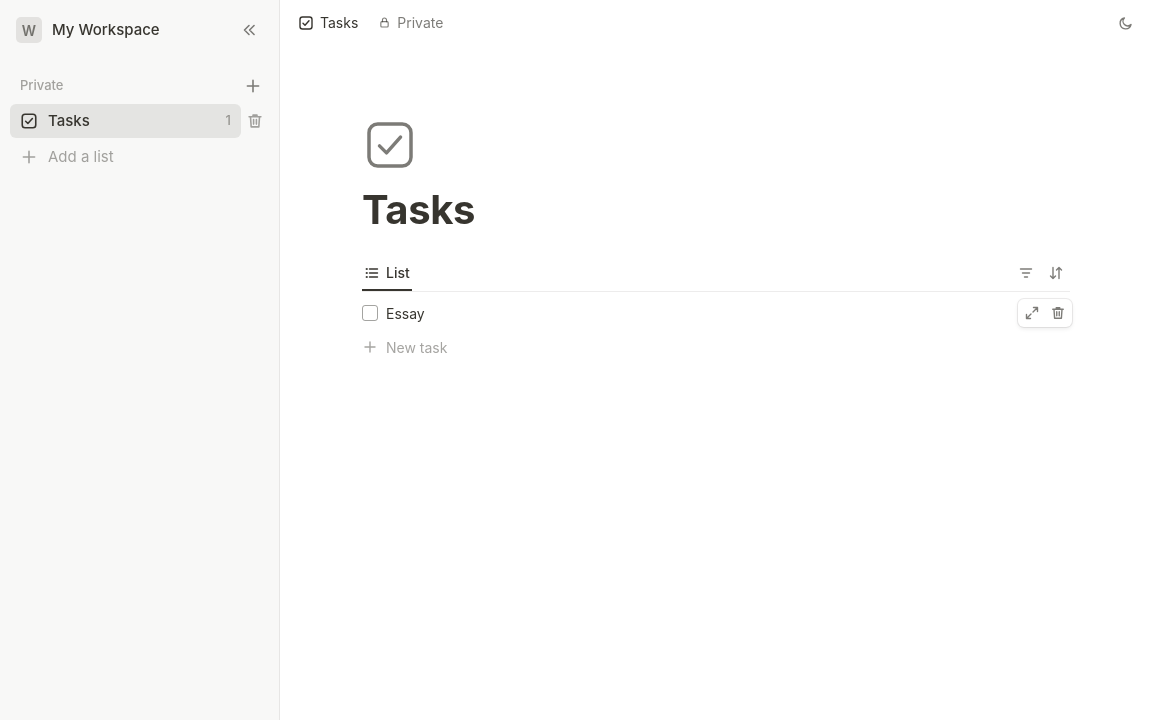
editing tasks › edits priority, due date and notes in the task panel
Expected: the field labelled "New task" is shown, x1=386 y1=334 x2=1070 y2=360
Step 1. Click the button named "Open: Essay" → (1032, 313), box x1=1020 y1=301 x2=1044 y2=325
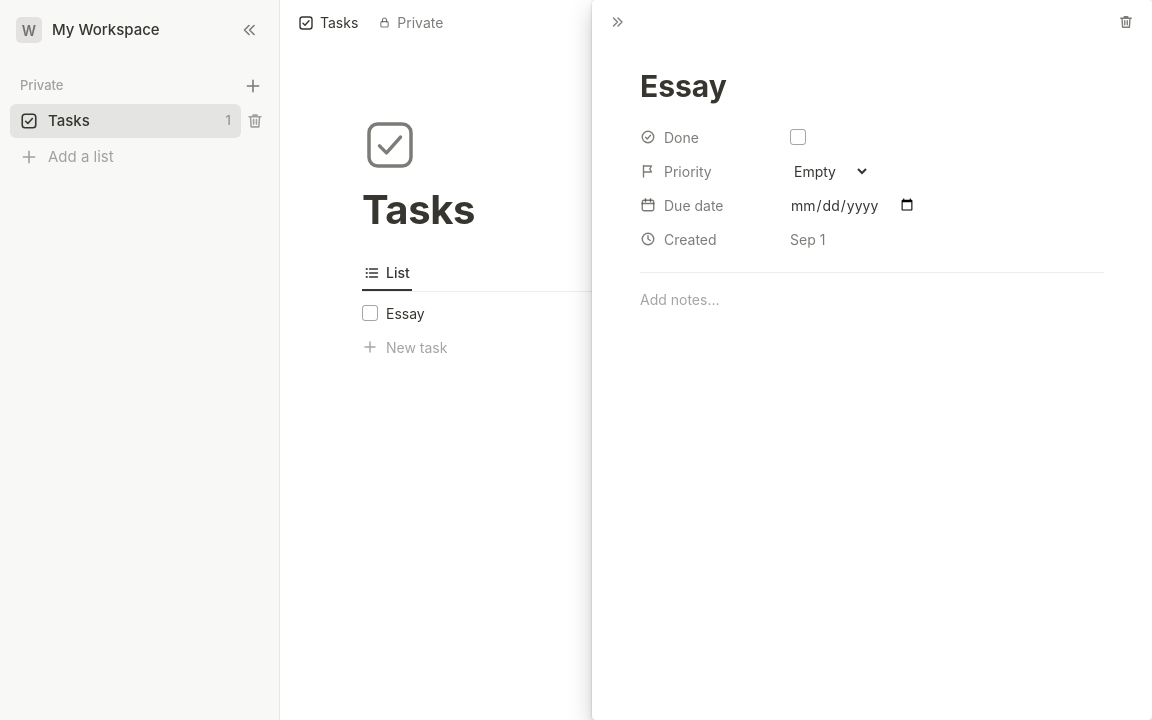
Step 2. Select "High" in the dropdown labelled "Priority" → (827, 171), box x1=784 y1=156 x2=870 y2=186
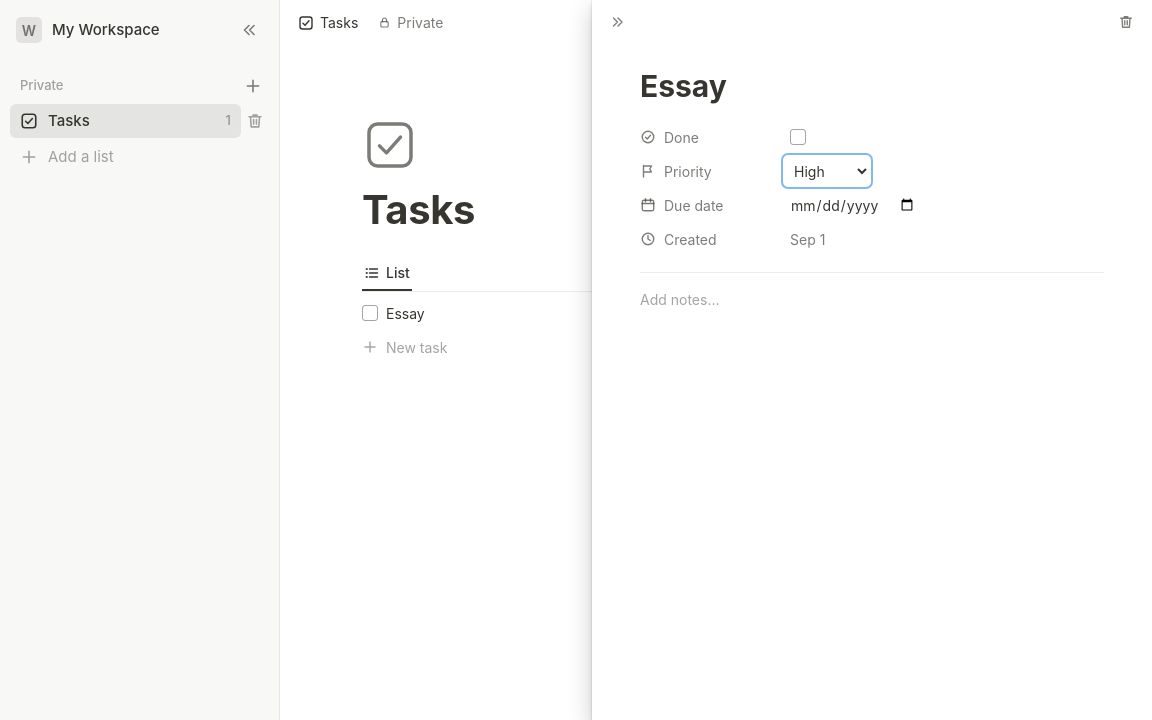
Step 3. Type "2026-10-05" into the date field labelled "Due date" → (853, 205), box x1=784 y1=190 x2=922 y2=220
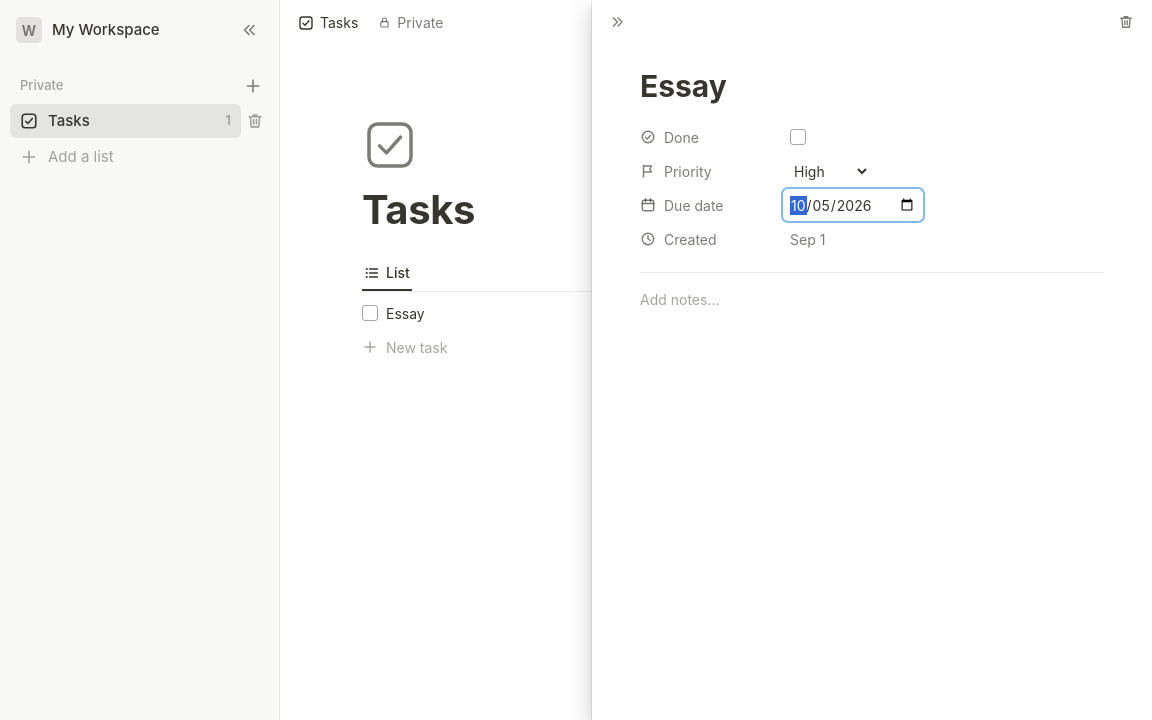
Step 4. Type "Min 2000 words" into the text box labelled "notes" → (872, 389), box x1=640 y1=289 x2=1104 y2=489
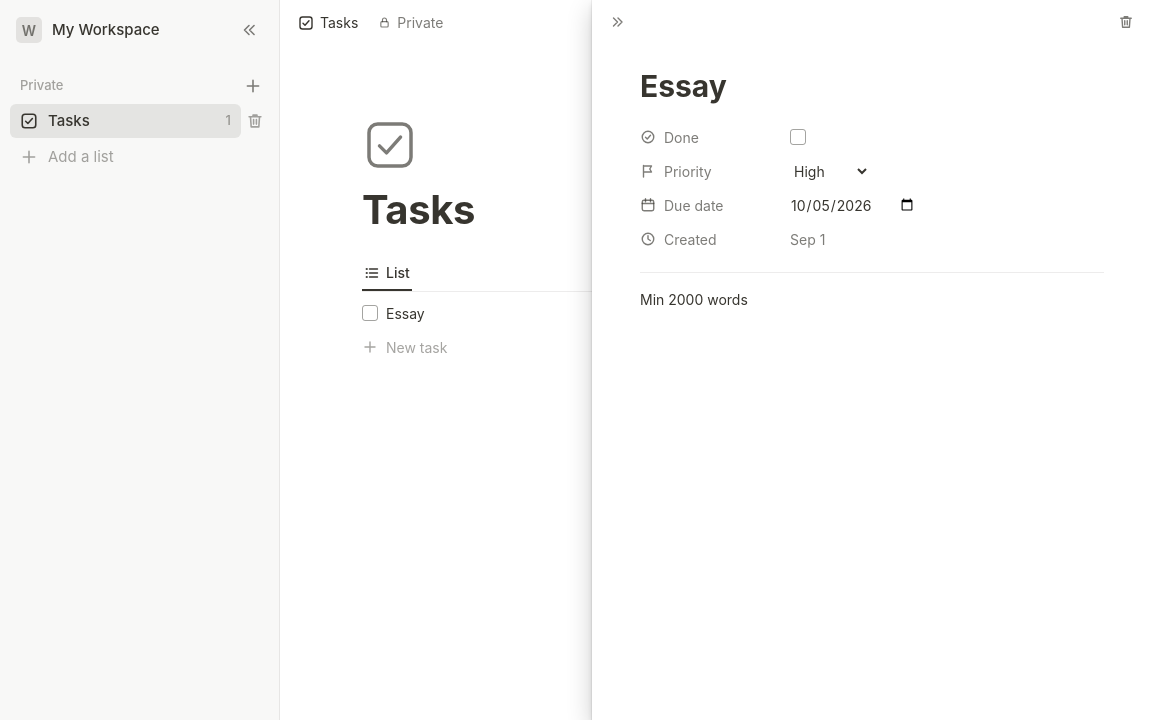
Step 5. Press Escape
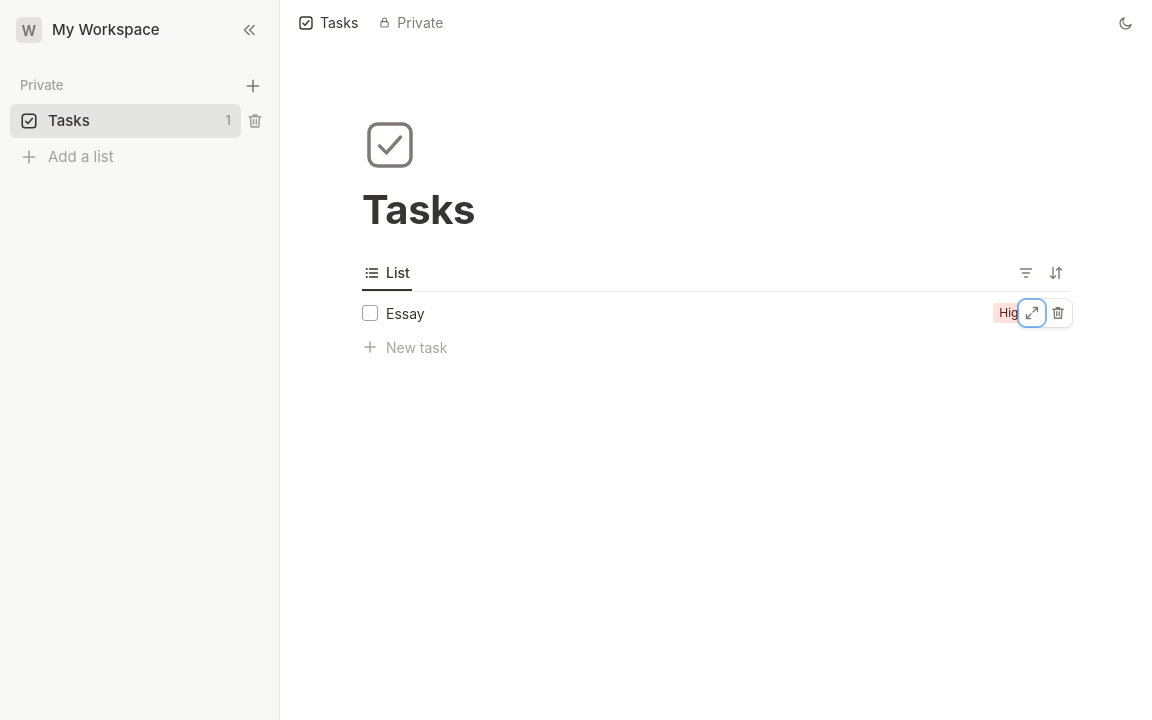
Now the dialog is gone
